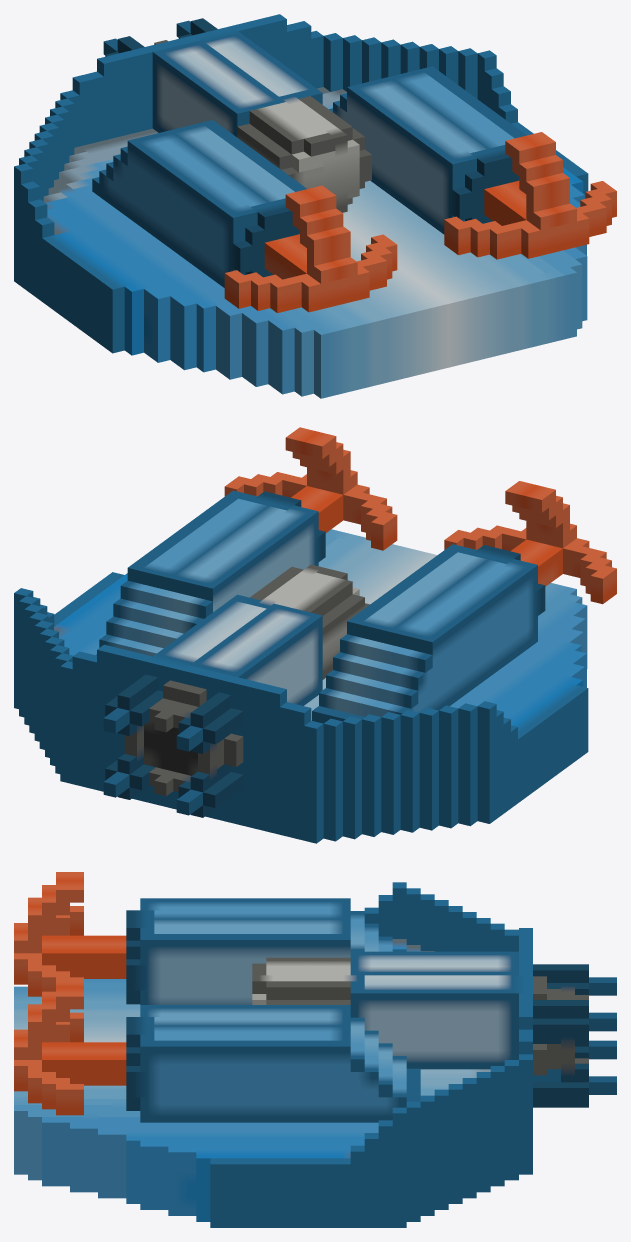
Rendered from BlueBasicV1.5.dae.
3 views of the same model, one above another, from view 1: azimuth 30°, elevation 25°; view 2: azimuth 150°, elevation 25°; view 3: azimuth 270°, elevation 25° (orthographic).
Visible parts, largest first — view 1: BlueBasicV1.5; view 2: BlueBasicV1.5; view 3: BlueBasicV1.5.
Boxes of the visible parts, x1,y1,x2,y2 form: BlueBasicV1.5: (14, 14, 616, 398); BlueBasicV1.5: (14, 427, 616, 843); BlueBasicV1.5: (14, 872, 616, 1227).
Size of the model in its own units: 39 by 14 by 43.
Materials: 1 (1 with a texture image).
